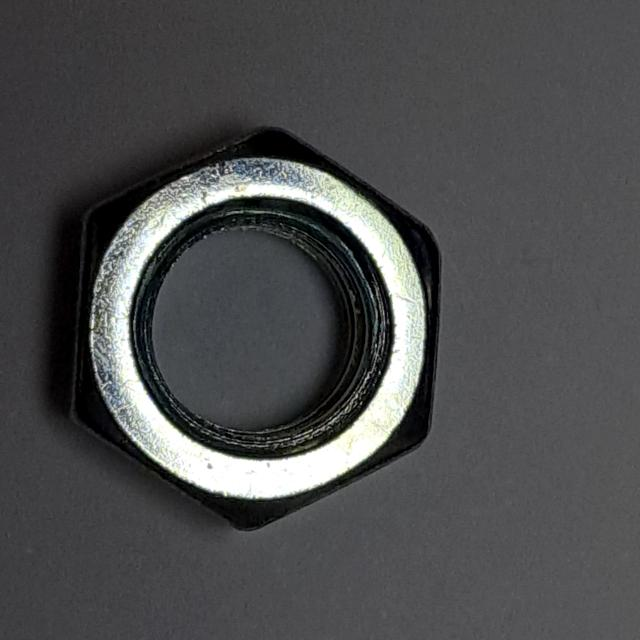Excellent: (62, 106, 454, 545)
